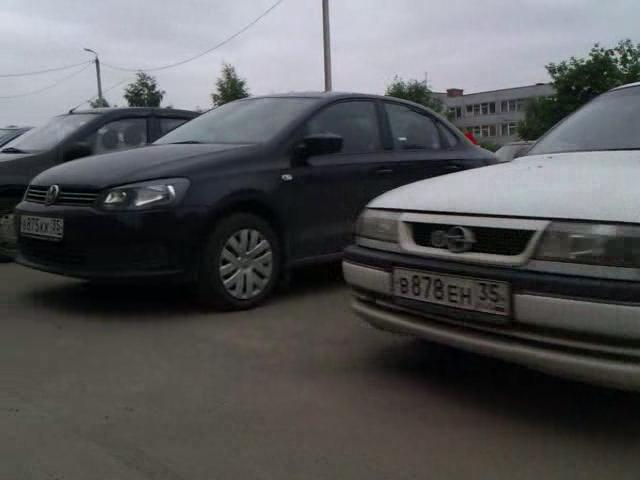car license plate: (389, 265, 513, 334), (20, 212, 64, 243)
